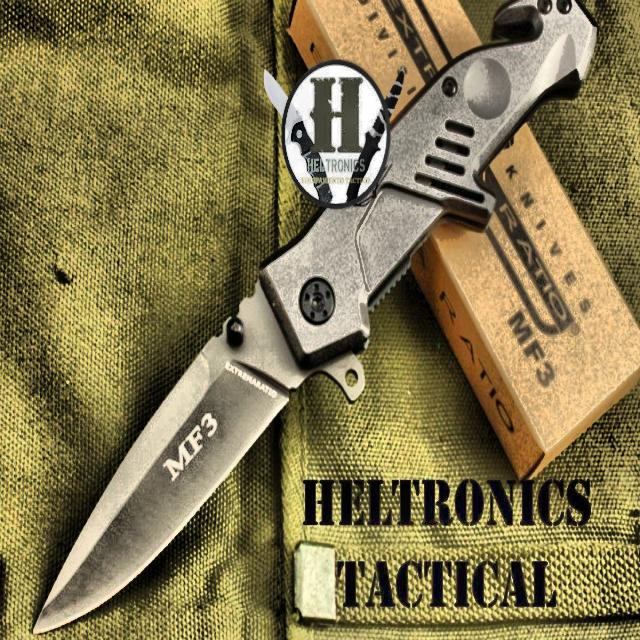knife: (33, 4, 596, 635), (265, 71, 330, 211), (347, 69, 405, 210)
